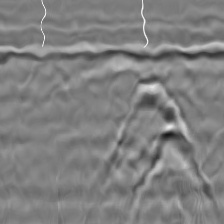Utility: (100, 74, 224, 221)
